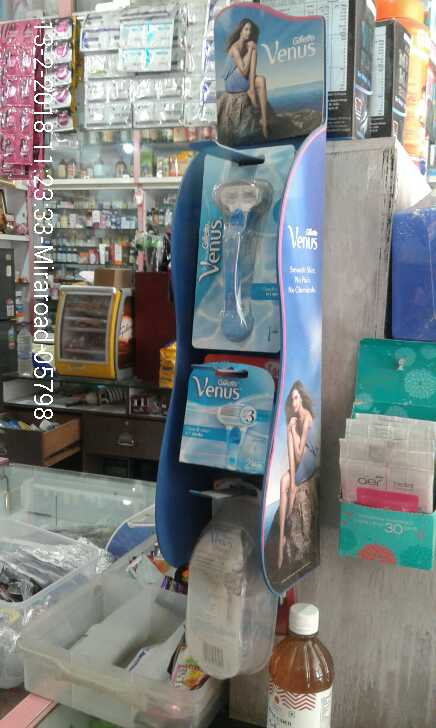venus: (195, 155, 282, 352), (176, 363, 276, 466)
